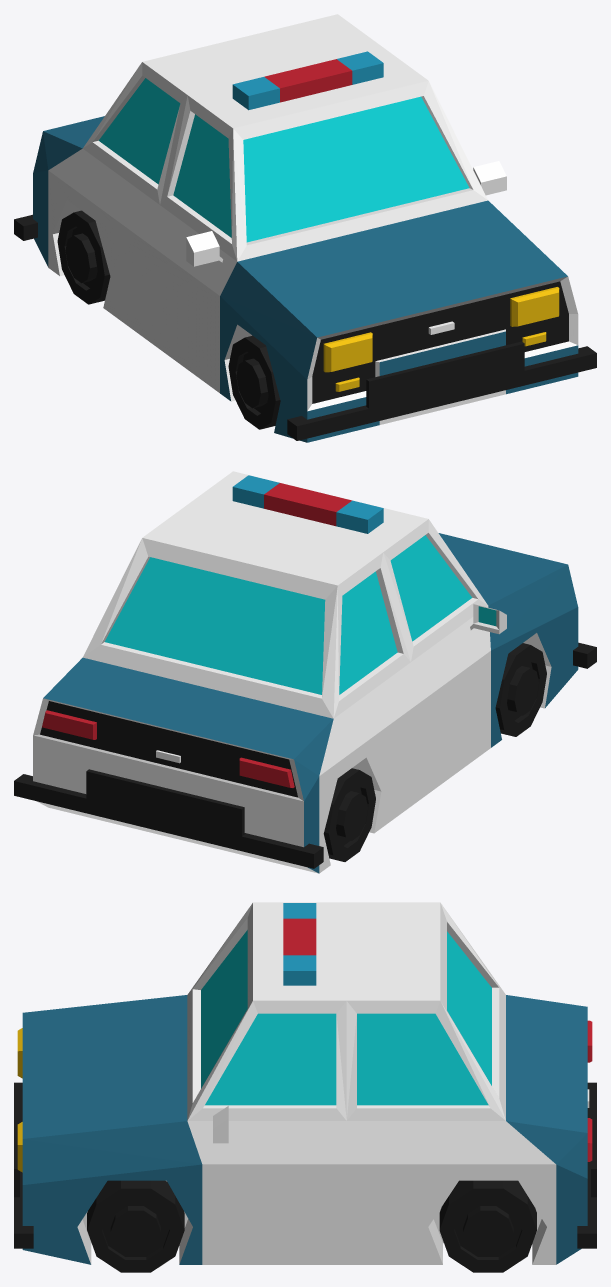
The model's file is policecar.obj.
3 renders of one model, top to bottom at view 1: azimuth 30°, elevation 25°; view 2: azimuth 150°, elevation 25°; view 3: azimuth 270°, elevation 25°, orthographic. The views are drawn at different scales.
Visible parts, largest first — view 1: policecar_Cube.009; view 2: policecar_Cube.009; view 3: policecar_Cube.009.
Part boxes in pixels (bbox=[...]): policecar_Cube.009: bbox=[14, 14, 596, 442]; policecar_Cube.009: bbox=[14, 471, 596, 873]; policecar_Cube.009: bbox=[14, 902, 596, 1272].
Bounding box in the file's own units: 4.61 × 3.66 × 7.22.
